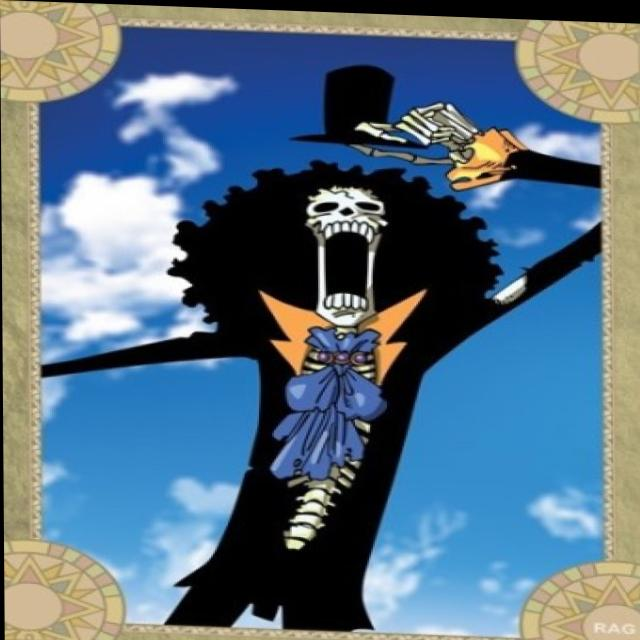Blook: (149, 159, 512, 374)
